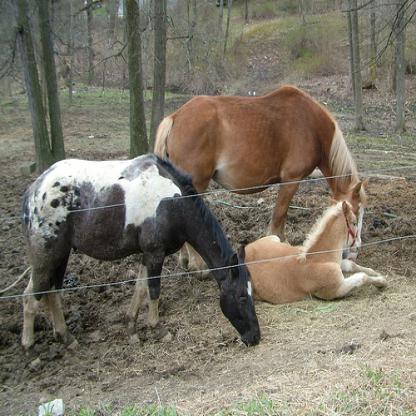horse: (21, 150, 260, 352), (153, 82, 371, 278), (244, 198, 385, 304)
